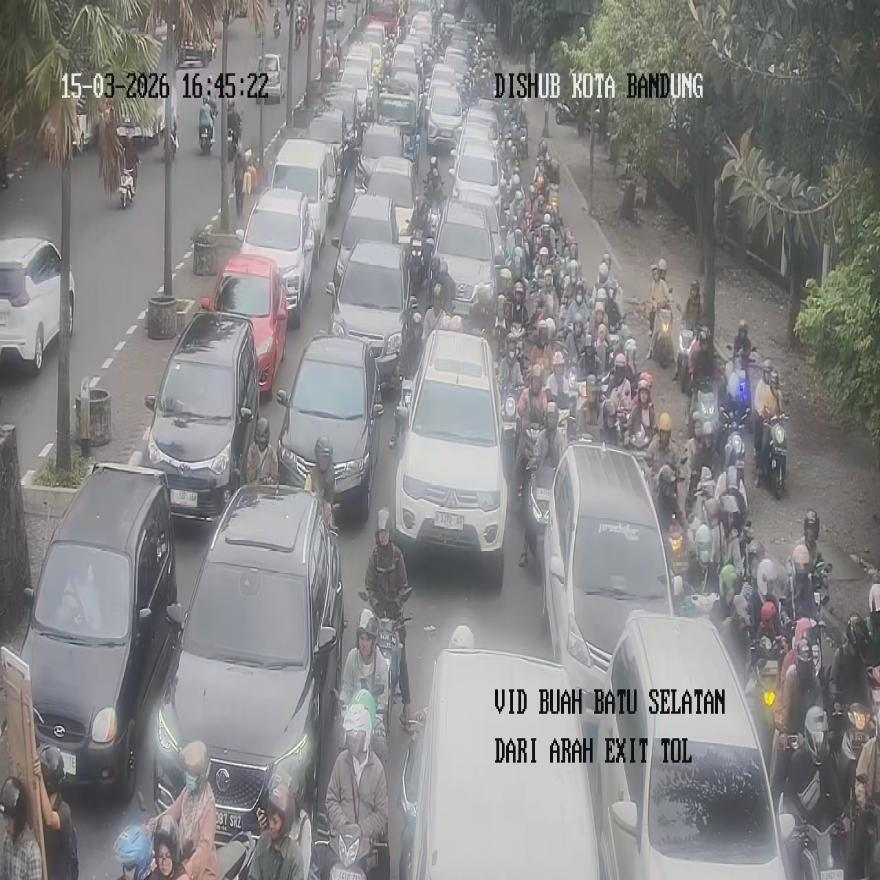Mobil: (150, 484, 344, 841), (19, 462, 178, 802), (594, 608, 792, 878), (409, 649, 602, 879), (543, 440, 677, 731), (393, 326, 507, 572), (144, 308, 260, 519), (275, 332, 384, 520), (326, 240, 420, 397), (201, 252, 289, 396), (236, 187, 314, 324), (0, 237, 75, 375), (269, 137, 336, 260), (433, 196, 499, 320)
Motor: (358, 592, 412, 734), (312, 814, 389, 880), (779, 813, 845, 880), (522, 459, 555, 564), (749, 634, 783, 731), (756, 414, 787, 498), (690, 380, 718, 452), (722, 361, 750, 430), (652, 303, 676, 373), (676, 328, 696, 394), (501, 383, 520, 452), (118, 159, 136, 209), (198, 101, 214, 153), (164, 114, 176, 160), (273, 8, 281, 36)
